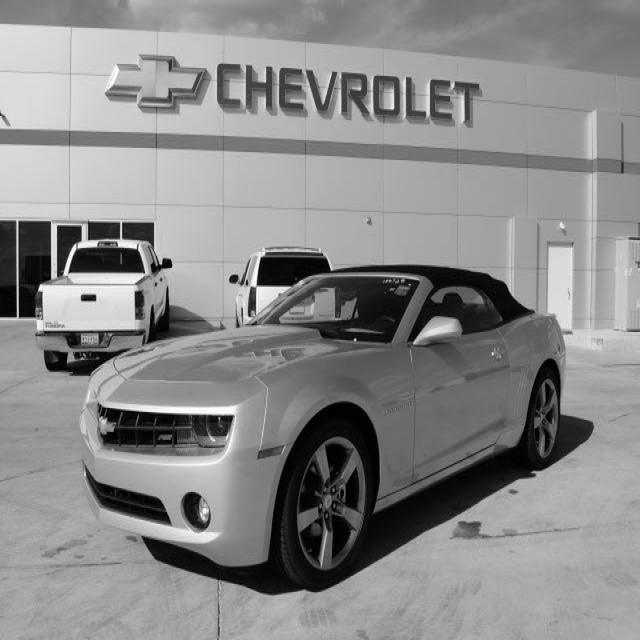car: (79, 262, 566, 590), (34, 237, 172, 371), (228, 245, 333, 327)
